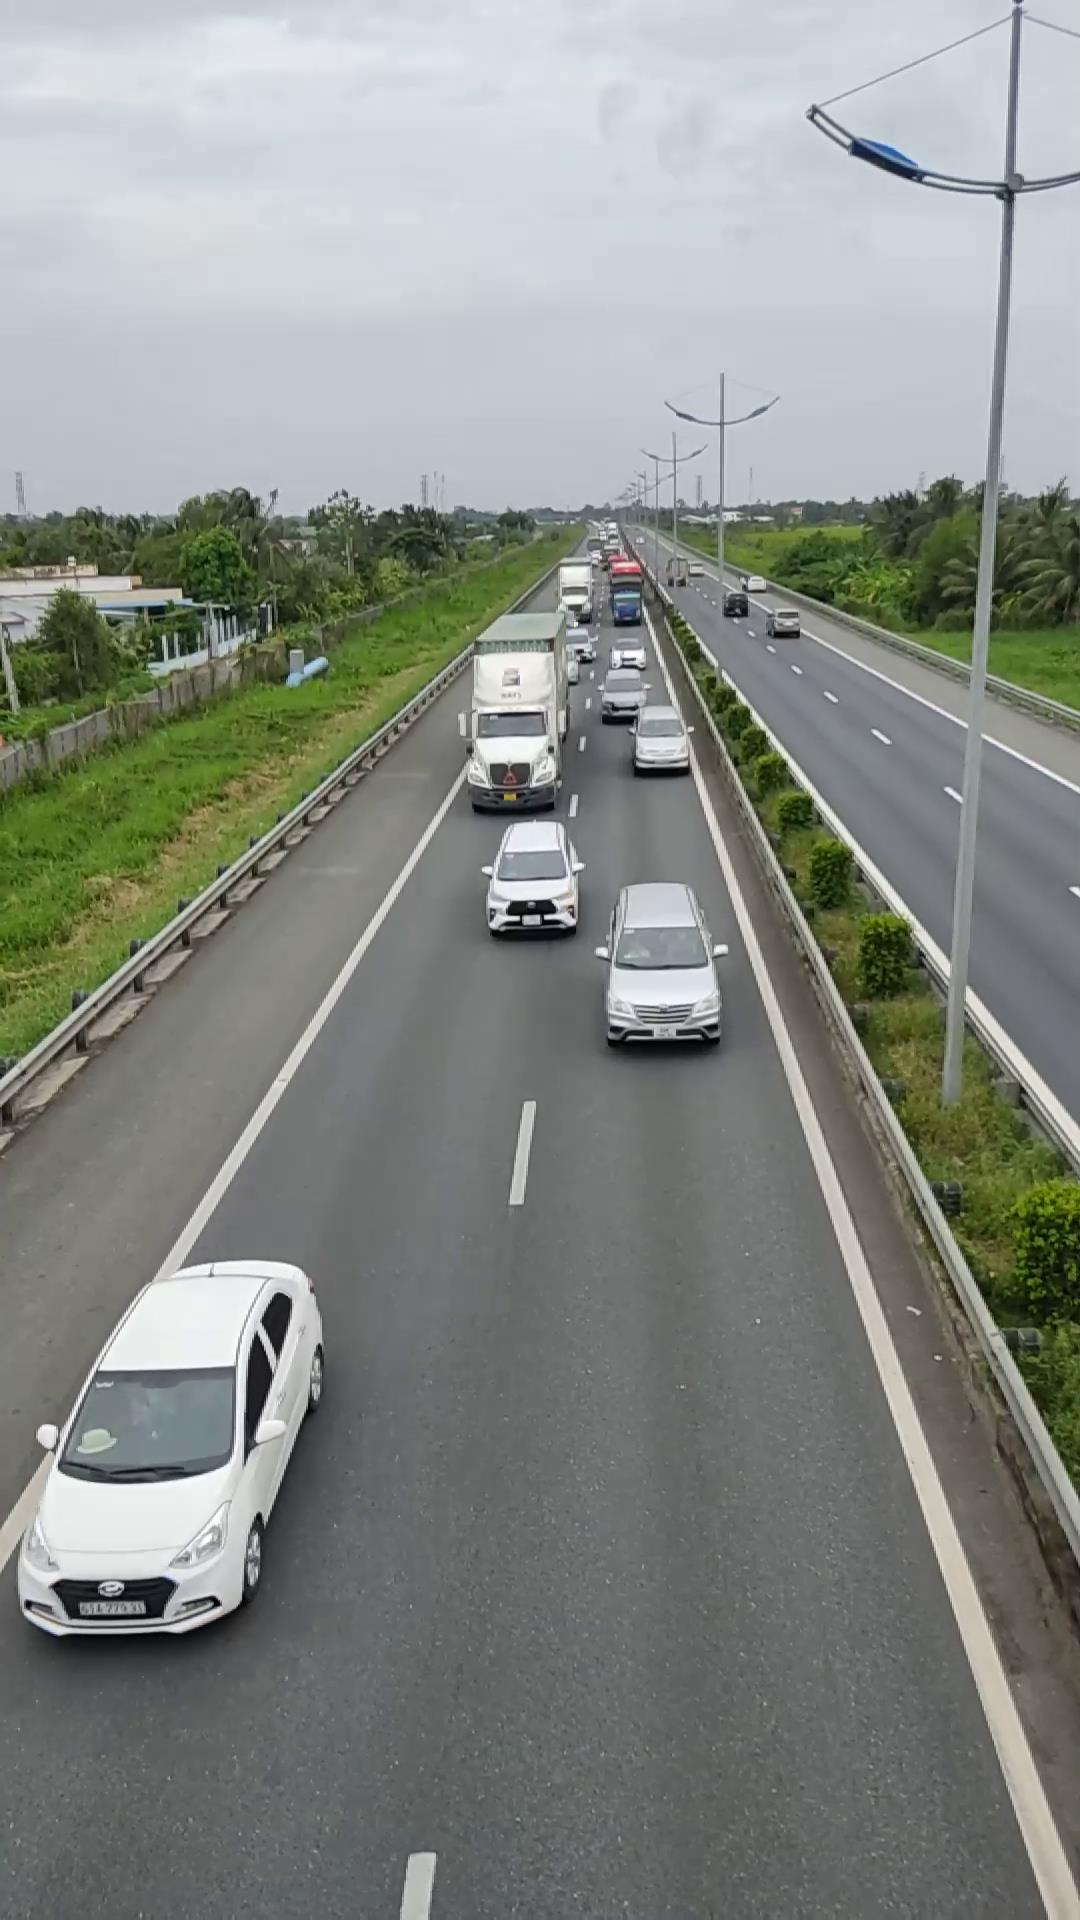car: (9, 1257, 328, 1638), (599, 881, 724, 1048), (481, 819, 585, 937), (630, 709, 692, 774)
container: (461, 607, 574, 813)
